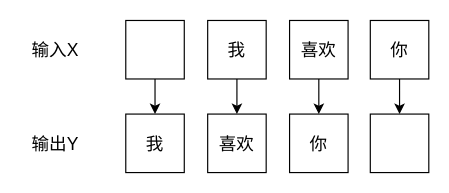
The diagram is 449 pixels wide and 193 high, and some of its shapes have lost their labels. Here are the shapes that lost their labels. From the top down, the centre of each, then its label:
At (x=154, y=49): "SOS".
At (x=399, y=143): "EOS".
